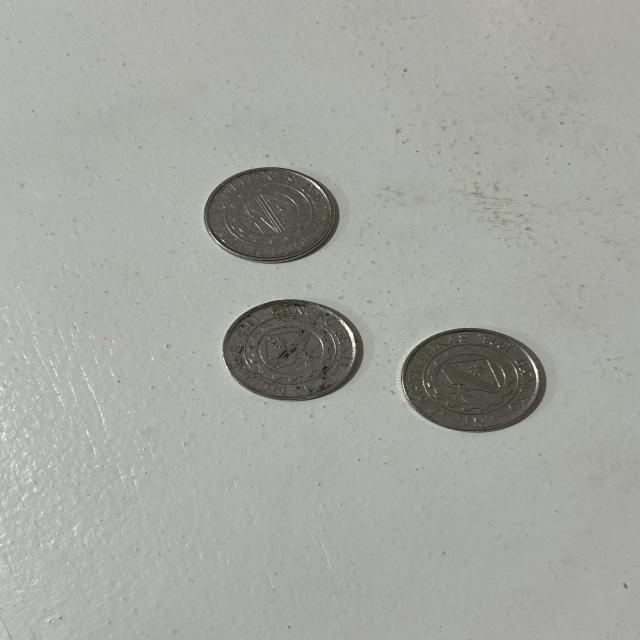1_Old_Back: (417, 341, 526, 416), (215, 182, 322, 252), (240, 311, 338, 386)
